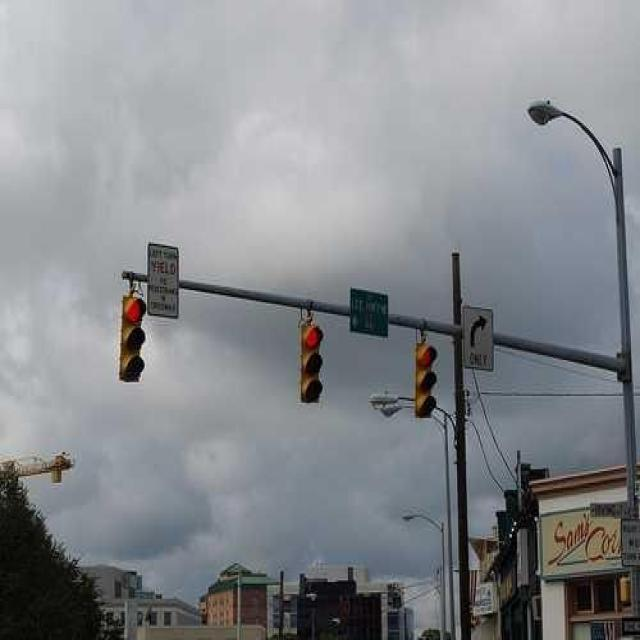Traffic Light -Red-: (116, 286, 148, 386), (298, 319, 325, 405)
Traffic Light -Yellow-: (412, 340, 439, 420)
